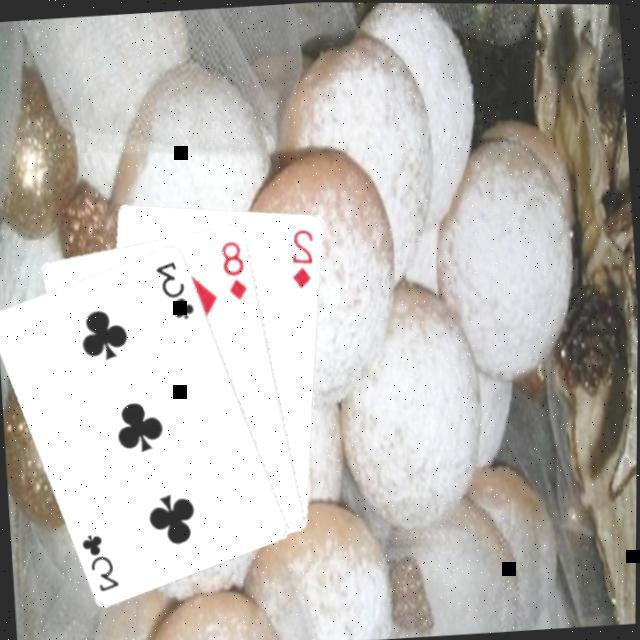2D: (285, 225, 319, 293)
3C: (151, 256, 198, 325), (78, 529, 123, 596)
8D: (216, 237, 250, 305)
